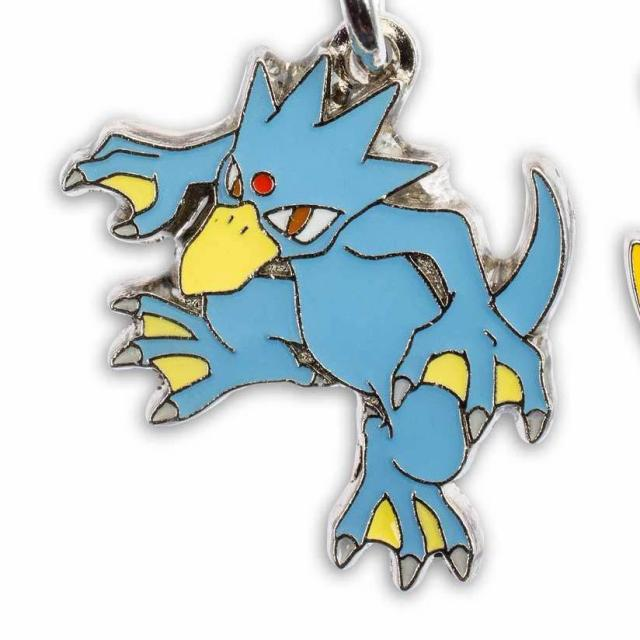Golduck: (59, 56, 581, 598)
